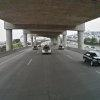Bridge: (3, 3, 92, 44)
